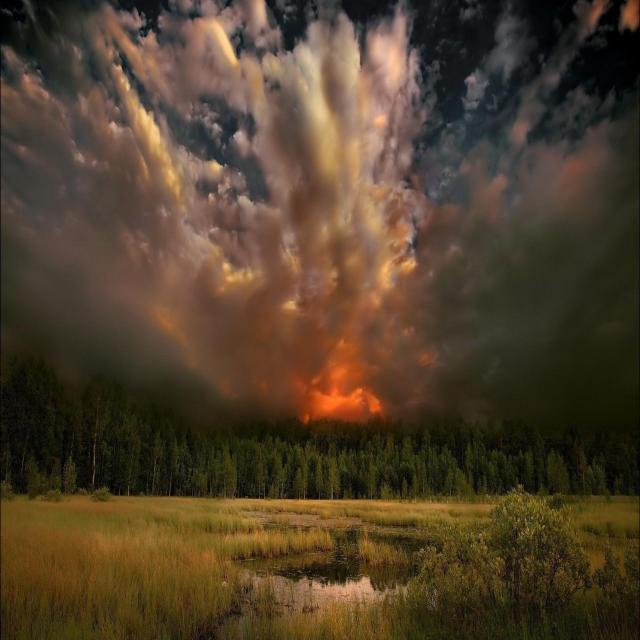Fire: (296, 356, 397, 421)
